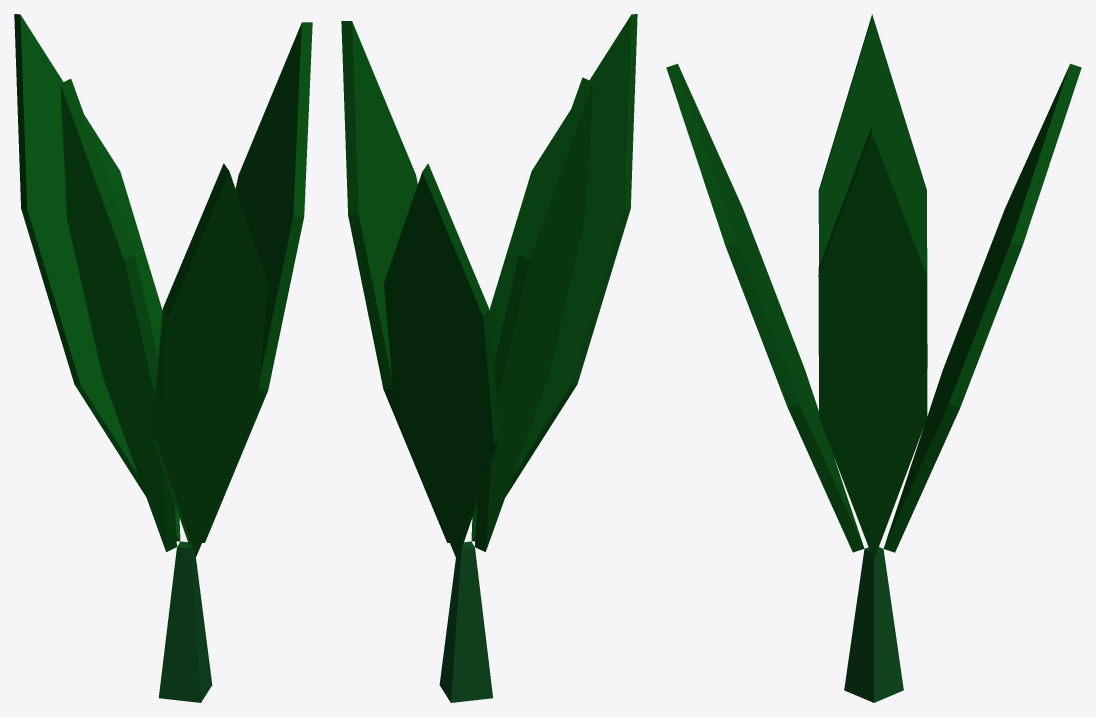
Rendered from Trigo stage 1.fbx.
3 renders of one model, left to right at view 1: azimuth 30°, elevation 25°; view 2: azimuth 150°, elevation 25°; view 3: azimuth 270°, elevation 25°, orthographic. The views are drawn at different scales.
Visible parts, largest first — view 1: caule; view 2: caule; view 3: caule.
Boxes of the visible parts, bbox=[...] form: caule: bbox=[14, 14, 312, 702]; caule: bbox=[341, 14, 637, 702]; caule: bbox=[666, 14, 1081, 702].
Size of the model in its own units: 25.1 by 61.05 by 37.12.
